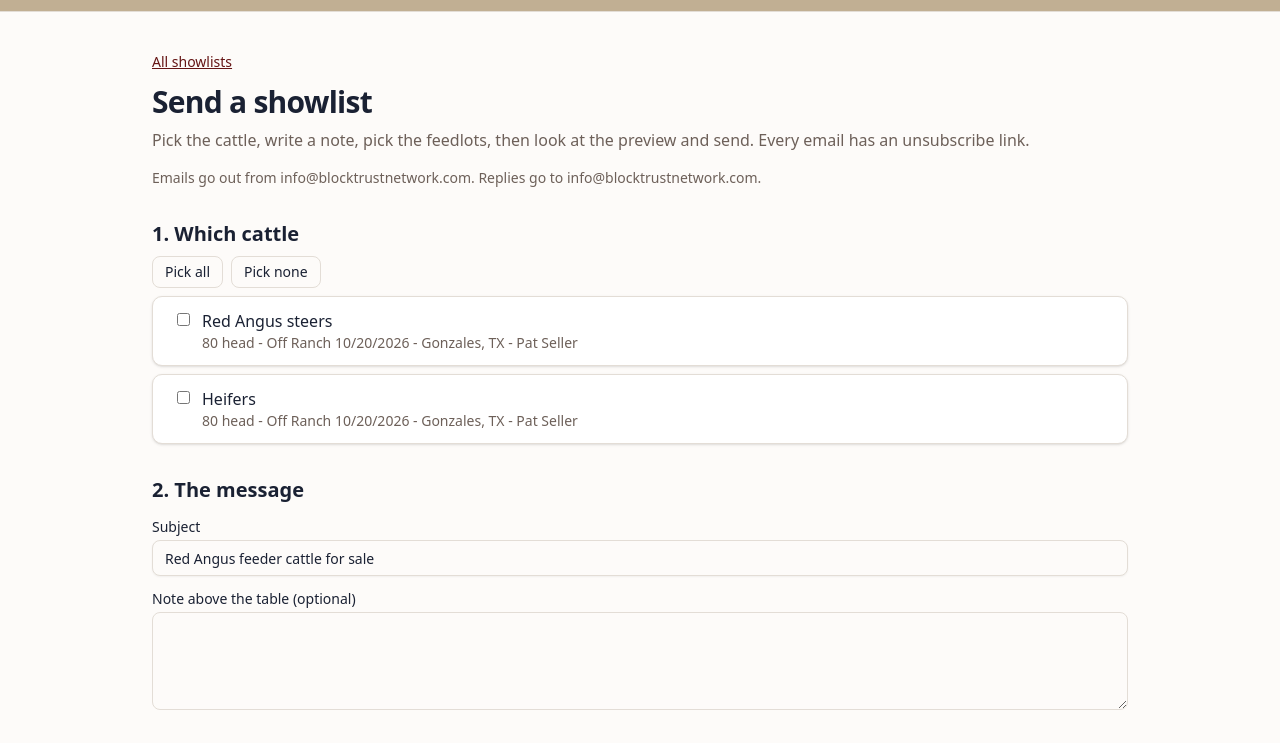
Test: send a showlist › sends a test to the typed address
Click the checkbox named "Include Red Angus steers": (184, 320) [177,313,190,326]
(page scrolled)
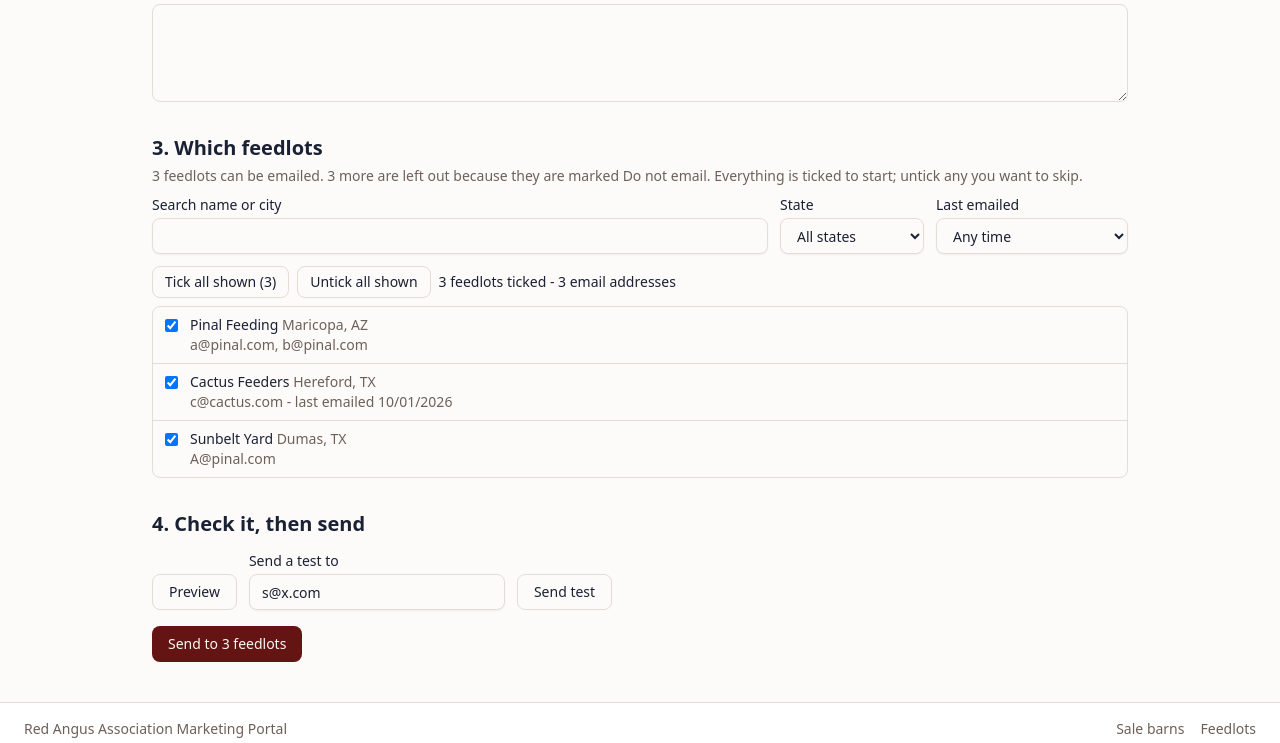
Expected: the field labelled "Send a test to" holds "s@x.com", [249,574,505,610]
Click the button "Send test": (564, 592) [517,574,612,610]
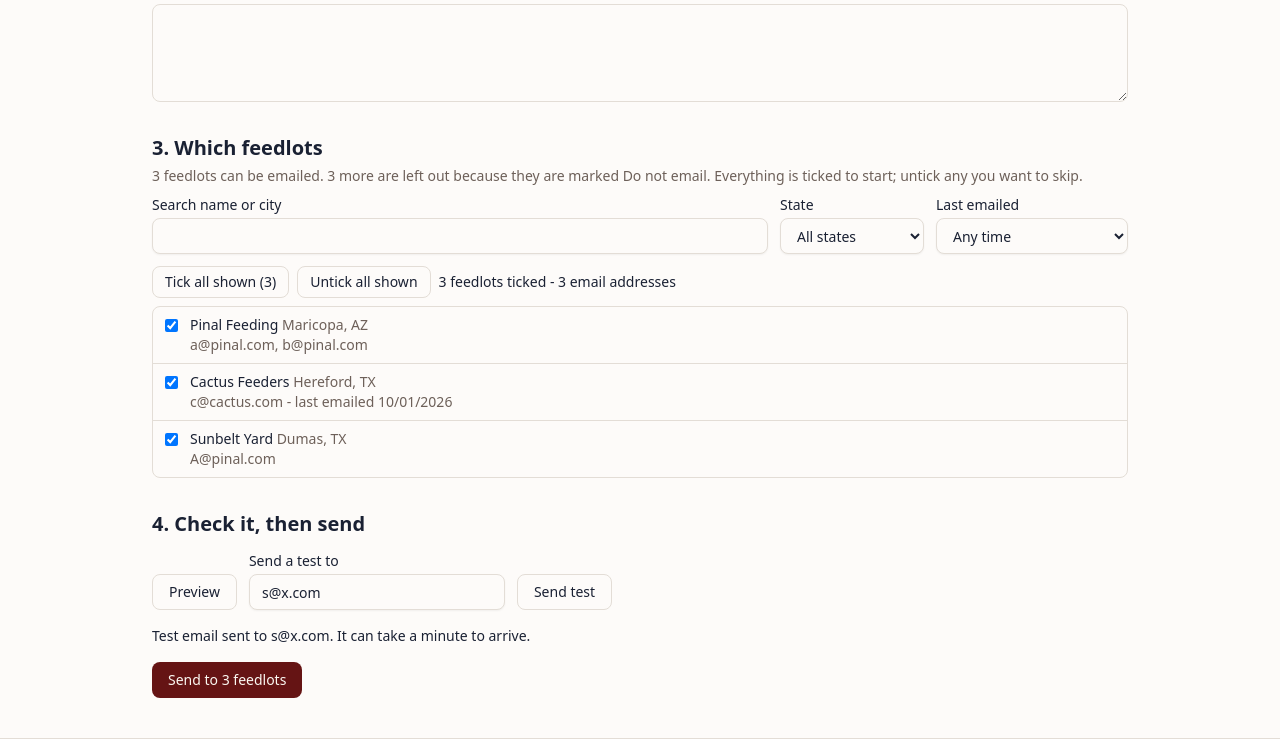
Now the text "Test email sent to s@x.com. It can take a minute to arrive." is shown, box [152,626,530,645]
